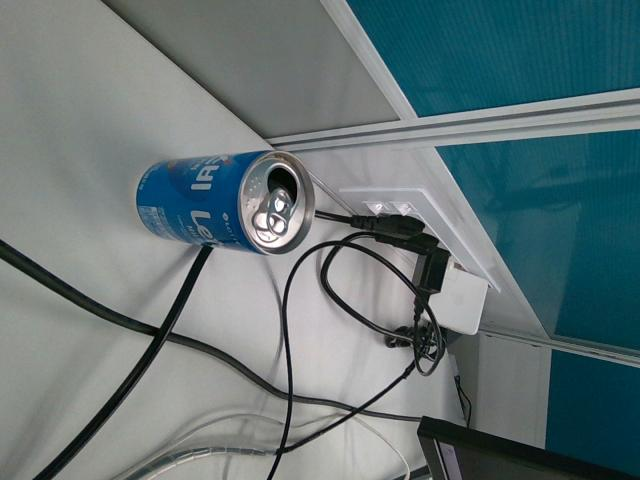letsbe: (135, 148, 316, 256)
